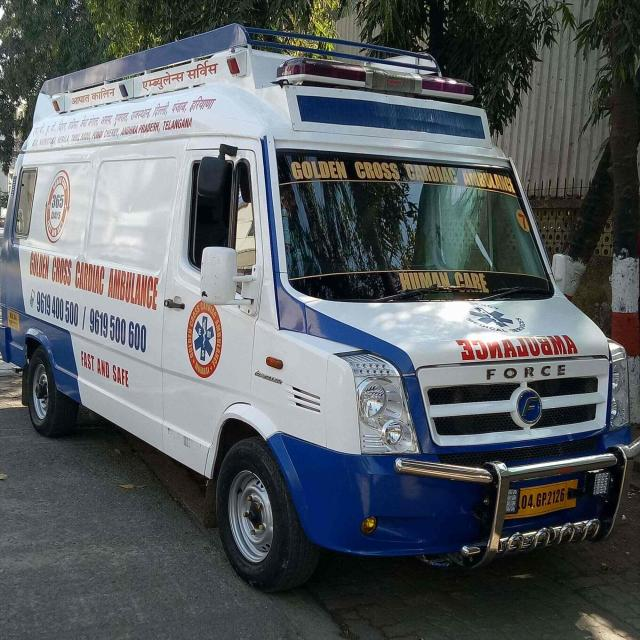ambulance: (21, 6, 628, 621)
